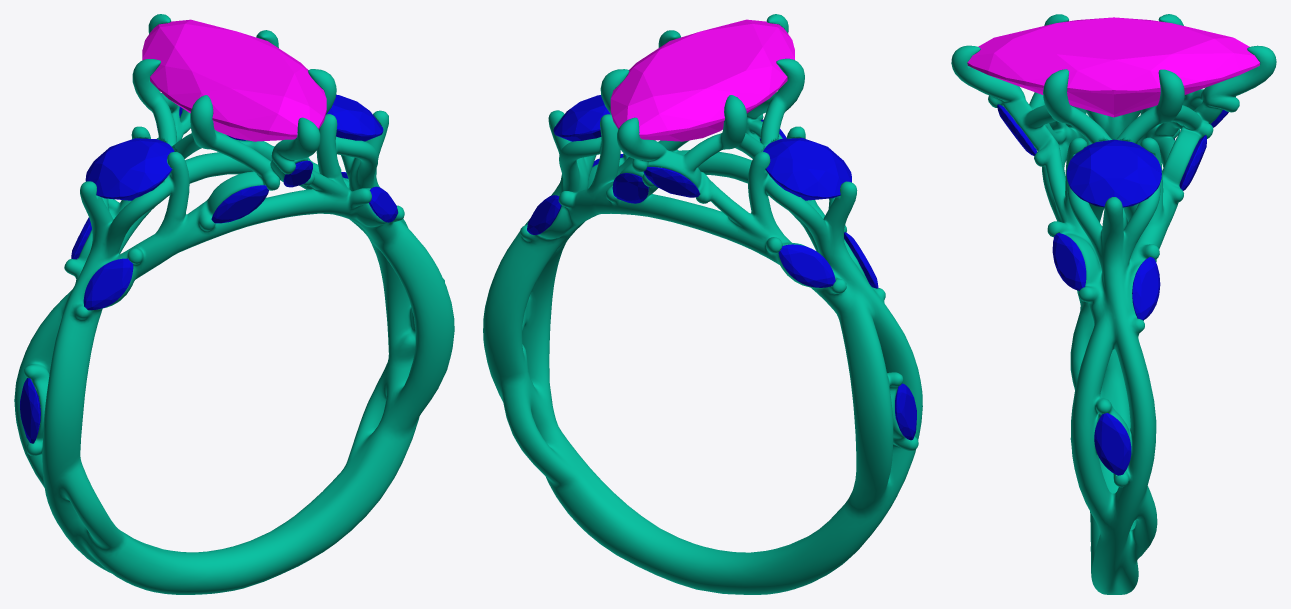
Rendered from BE1D6353_MQ_200ct_RENDER.glb.
3 renders of one model, left to right at view 1: azimuth 30°, elevation 25°; view 2: azimuth 150°, elevation 25°; view 3: azimuth 270°, elevation 25°, orthographic.
Parts seen in each view (by area): view 1: Metal 01, CS_Diamond_Marquise, Diamond_Round_side.001, Diamond_Marquise_side.008, Diamond_Round_side, Diamond_Marquise_side.003, Diamond_Marquise_side.007, Diamond_Marquise_side.006; view 2: Metal 01, CS_Diamond_Marquise, Diamond_Round_side.001, Diamond_Marquise_side.009, Diamond_Round_side, Diamond_Marquise_side.001, Diamond_Marquise_side.007, Diamond_Marquise_side, Diamond_Marquise_side.005; view 3: Metal 01, CS_Diamond_Marquise, Diamond_Round_side, Diamond_Marquise_side.004, Diamond_Marquise_side.006, Diamond_Marquise_side.005, Diamond_Marquise_side, Diamond_Marquise_side.002.
Part boxes in pixels (x1=…): Metal 01: x1=14, y1=14, x2=454, y2=594; CS_Diamond_Marquise: x1=142, y1=19, x2=326, y2=141; Diamond_Round_side.001: x1=85, y1=138, x2=174, y2=200; Diamond_Marquise_side.008: x1=83, y1=258, x2=133, y2=310; Diamond_Round_side: x1=326, y1=94, x2=383, y2=141; Diamond_Marquise_side.003: x1=211, y1=185, x2=268, y2=223; Diamond_Marquise_side.007: x1=20, y1=378, x2=40, y2=443; Diamond_Marquise_side.006: x1=369, y1=186, x2=397, y2=222; Metal 01: x1=483, y1=14, x2=922, y2=594; CS_Diamond_Marquise: x1=610, y1=19, x2=794, y2=141; Diamond_Round_side.001: x1=763, y1=138, x2=851, y2=200; Diamond_Marquise_side.009: x1=778, y1=244, x2=835, y2=287; Diamond_Round_side: x1=553, y1=95, x2=610, y2=141; Diamond_Marquise_side.001: x1=643, y1=167, x2=699, y2=197; Diamond_Marquise_side.007: x1=895, y1=383, x2=916, y2=440; Diamond_Marquise_side: x1=612, y1=173, x2=648, y2=203; Diamond_Marquise_side.005: x1=527, y1=195, x2=561, y2=235; Metal 01: x1=951, y1=14, x2=1276, y2=594; CS_Diamond_Marquise: x1=967, y1=17, x2=1259, y2=117; Diamond_Round_side: x1=1066, y1=139, x2=1161, y2=207; Diamond_Marquise_side.004: x1=1094, y1=413, x2=1131, y2=475; Diamond_Marquise_side.006: x1=1052, y1=233, x2=1086, y2=290; Diamond_Marquise_side.005: x1=1132, y1=257, x2=1160, y2=320; Diamond_Marquise_side: x1=1179, y1=135, x2=1206, y2=190; Diamond_Marquise_side.002: x1=997, y1=104, x2=1036, y2=155.
Size of the model in its own units: 20.73 by 24.77 by 13.67.
